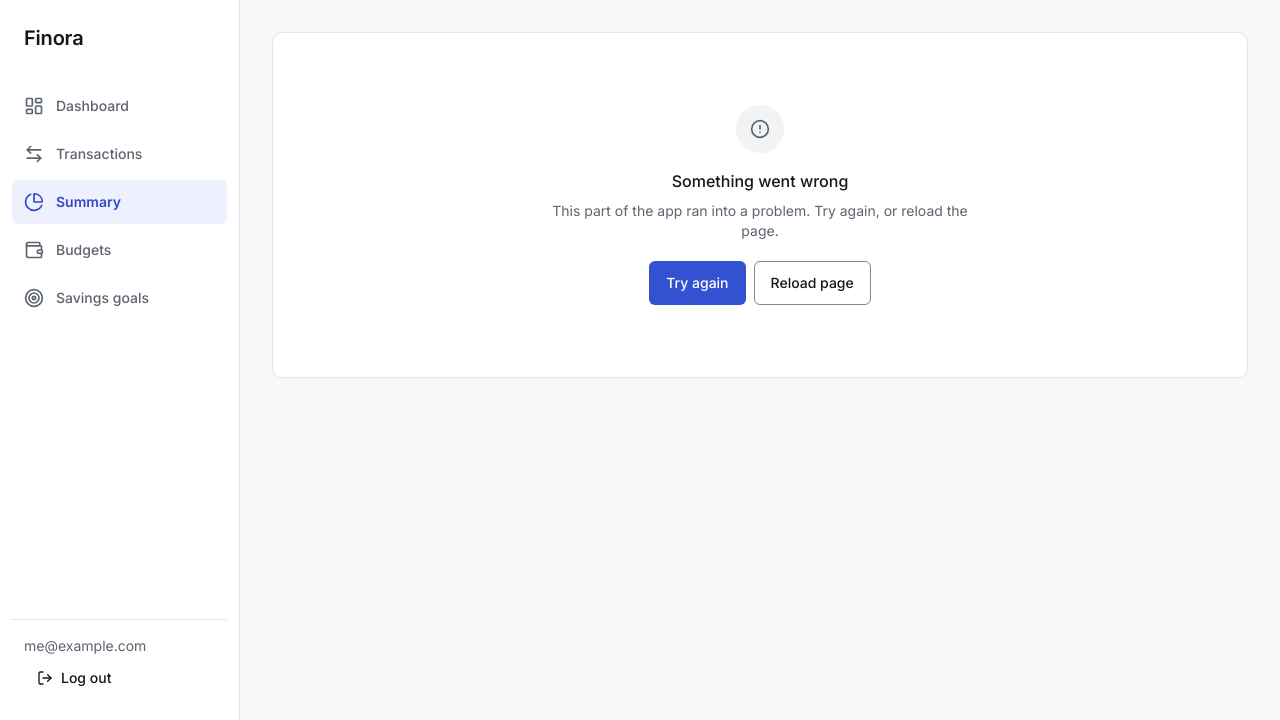
it: a page that breaks › shows a message with Try again inside the app shell, and the navigation still works
Expected: the text "Something went wrong" is shown, top-left (672, 169), bottom-right (848, 193)
Expected: the button "Try again" is shown, top-left (649, 261), bottom-right (746, 305)
Click the link "Budgets" at (68, 250), box top-left (24, 240), bottom-right (111, 260)
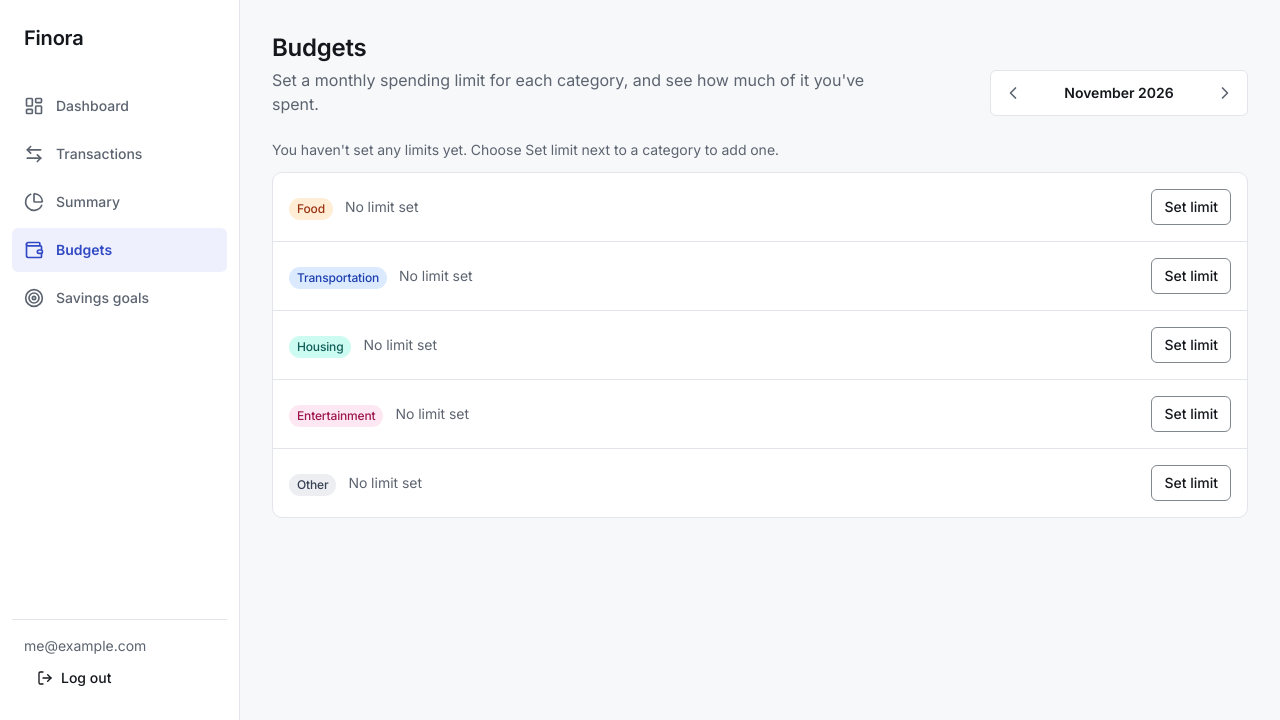
Result: the heading "Budgets" is shown at top-left (272, 33), bottom-right (366, 62)
Result: the text "Something went wrong" is gone
